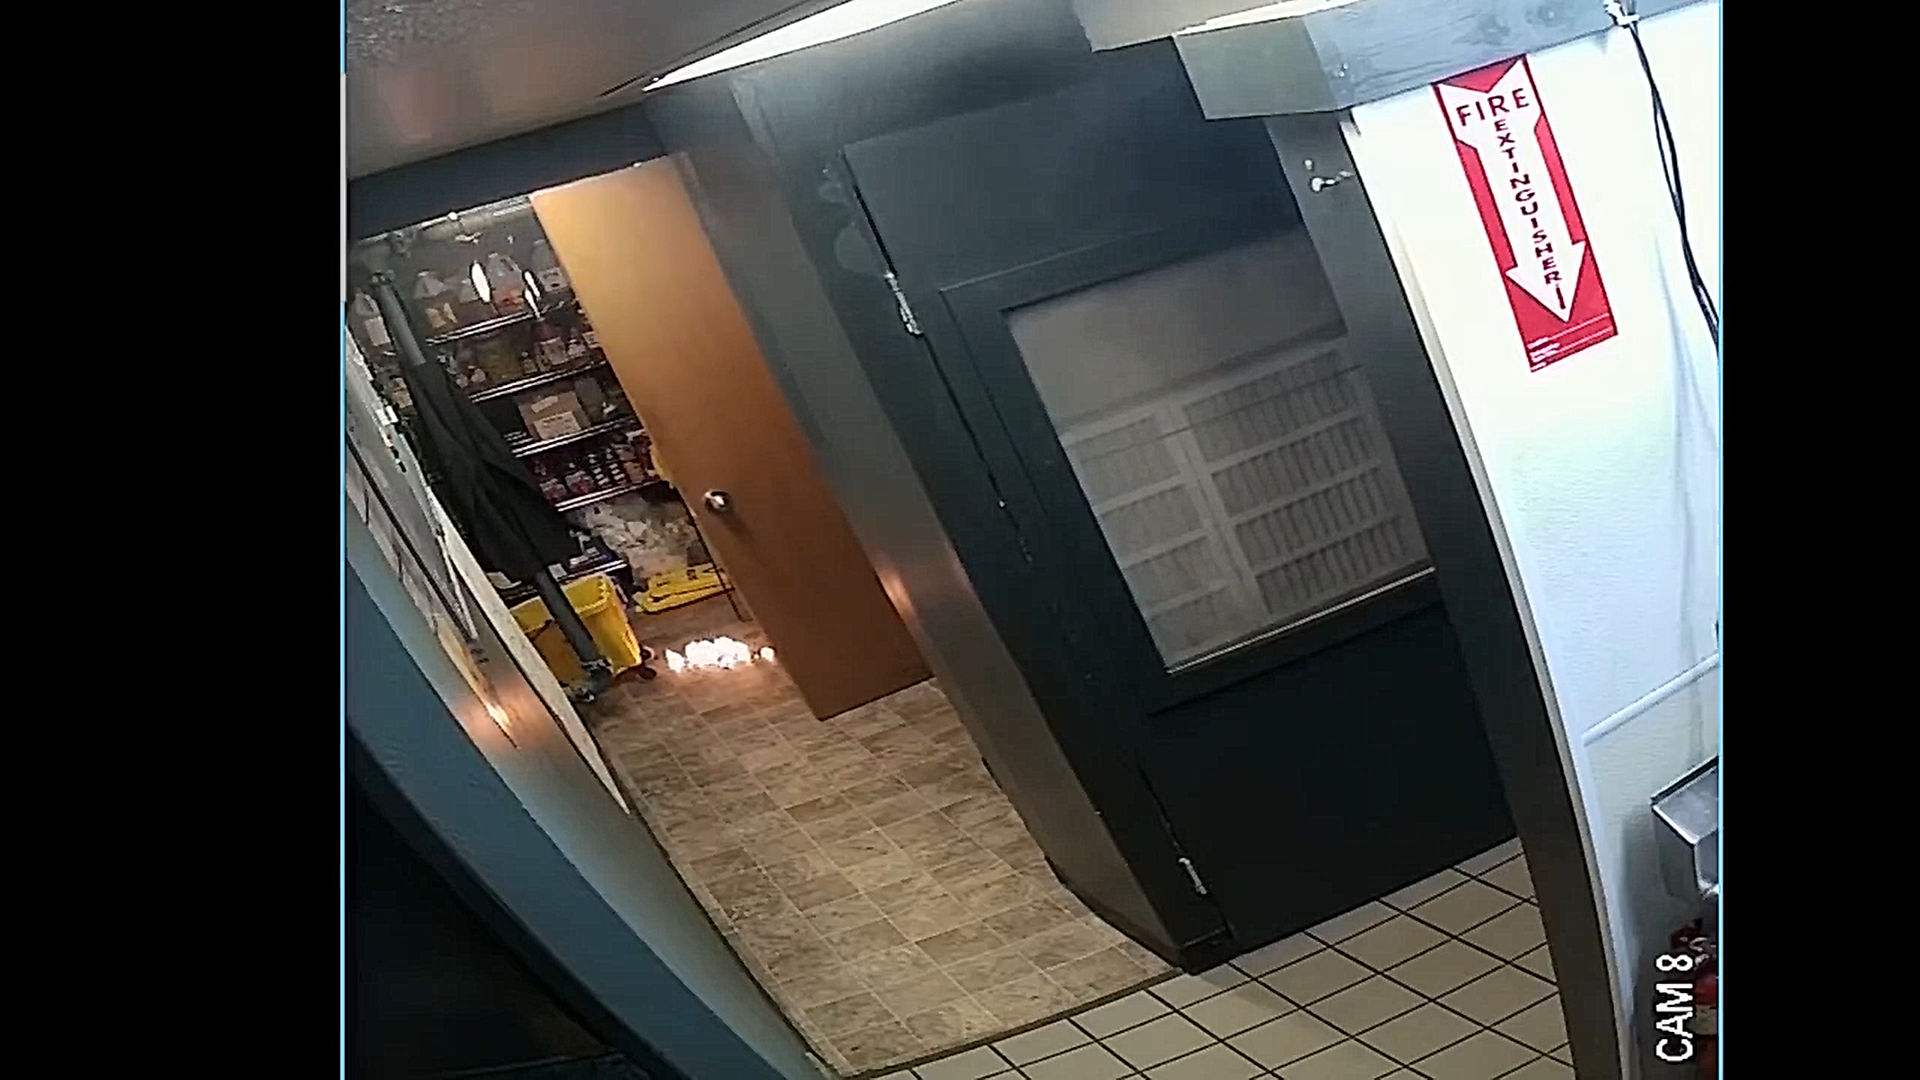fire: (657, 632, 782, 679)
